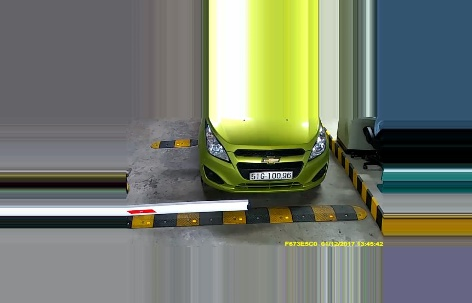plate: (247, 166, 292, 184)
